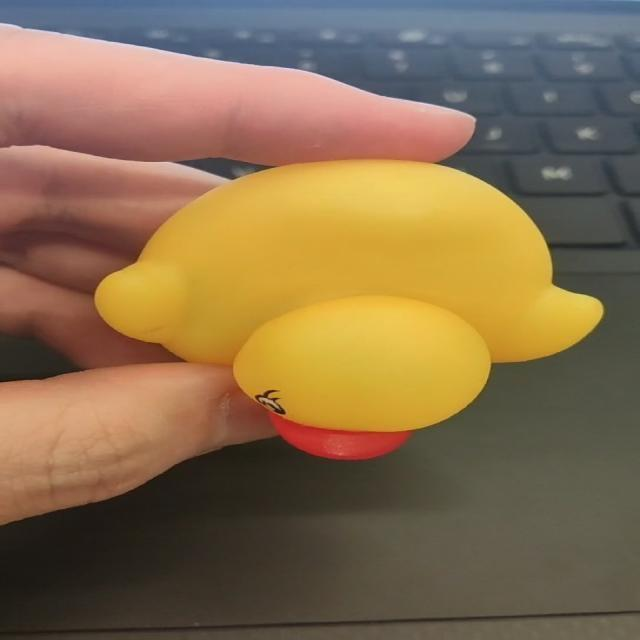rubber-duck: (94, 159, 601, 457)
